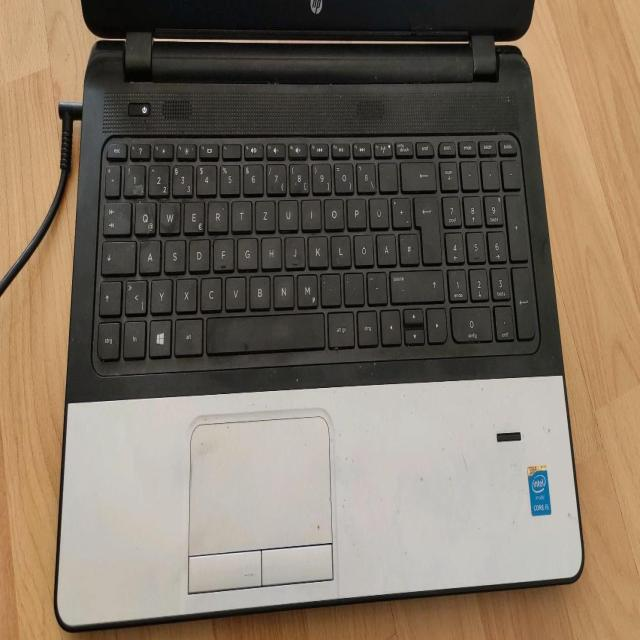0: (333, 160, 353, 192)
1: (122, 160, 144, 195)
2: (146, 161, 168, 194)
3: (170, 160, 192, 195)
4: (196, 161, 216, 194)
5: (218, 161, 239, 193)
6: (242, 161, 262, 194)
7: (265, 161, 285, 193)
8: (287, 160, 308, 193)
9: (310, 160, 330, 192)
a: (138, 237, 160, 272)
accent: (377, 159, 396, 190)
ae: (375, 230, 395, 264)
alt-left: (172, 315, 202, 355)
altgr-right: (326, 308, 354, 347)
b: (247, 273, 269, 308)
c: (199, 274, 221, 310)
caret: (103, 162, 119, 194)
comma: (319, 270, 339, 305)
d: (187, 236, 208, 271)
del: (399, 158, 435, 189)
e: (182, 197, 203, 231)
enter: (412, 192, 440, 261)
f: (212, 234, 233, 269)
g: (236, 235, 257, 268)
h: (260, 234, 281, 267)
hash: (397, 229, 418, 263)
i: (300, 196, 320, 229)
j: (283, 233, 304, 266)
k: (306, 232, 327, 266)
keyboard: (84, 128, 547, 378)
l: (330, 231, 350, 265)
less: (124, 276, 146, 313)
m: (295, 271, 317, 306)
minus: (365, 269, 386, 302)
n: (272, 271, 294, 307)
o: (323, 195, 343, 228)
oe: (353, 232, 373, 265)
p: (345, 194, 365, 227)
plus: (390, 194, 410, 226)
point: (342, 270, 363, 303)
q: (133, 198, 155, 233)
r: (207, 197, 228, 231)
s: (163, 236, 185, 271)
shift-left: (97, 278, 120, 313)
shift-lock: (100, 237, 135, 272)
shift-right: (388, 267, 443, 300)
space: (204, 310, 323, 351)
ss: (355, 160, 375, 190)
strg-left: (96, 318, 119, 359)
strg-right: (355, 307, 377, 345)
t: (230, 196, 250, 229)
tab: (101, 199, 130, 233)
u: (277, 196, 297, 229)
ue: (368, 194, 388, 227)
v: (223, 273, 245, 309)
w: (158, 197, 179, 231)
x: (174, 275, 196, 311)
y: (149, 276, 171, 312)
z: (254, 196, 274, 230)
